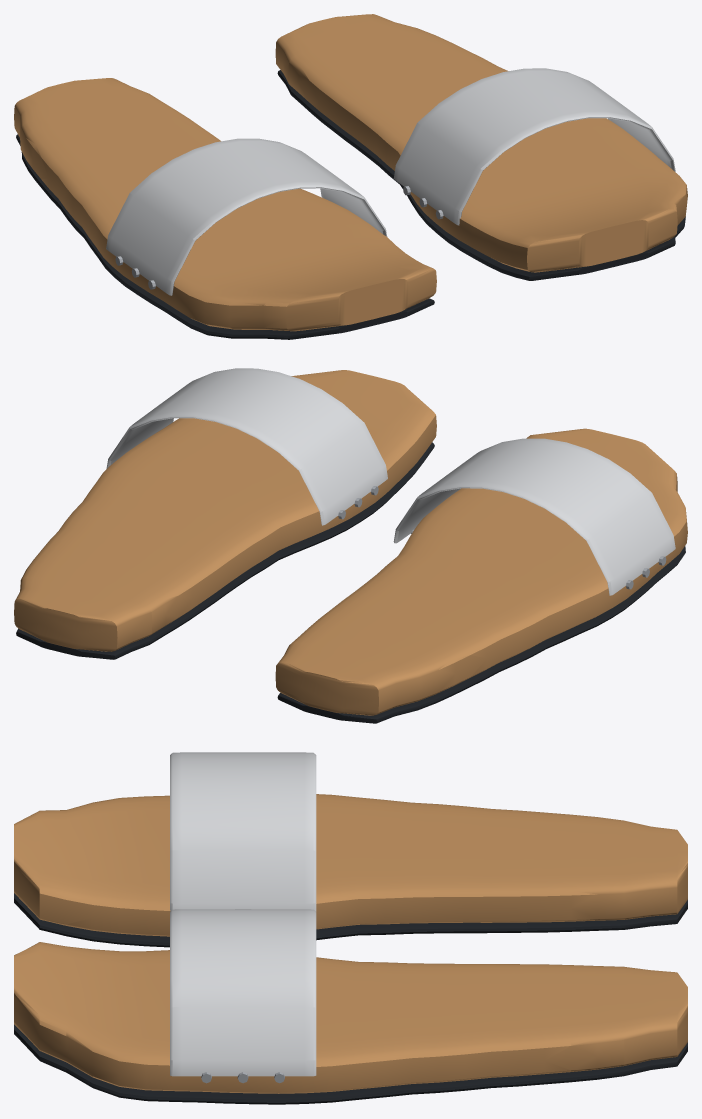
The model's file is guoc_moc_vn.glb.
3 views of the same model, one above another, from view 1: azimuth 30°, elevation 25°; view 2: azimuth 150°, elevation 25°; view 3: azimuth 270°, elevation 25° (orthographic). The views are drawn at different scales.
Visible parts, largest first — view 1: guoc_moc_vn; view 2: guoc_moc_vn; view 3: guoc_moc_vn.
Boxes of the visible parts, left/top/right/bottom form: guoc_moc_vn: left=14, top=14, right=687, bottom=339; guoc_moc_vn: left=14, top=368, right=687, bottom=723; guoc_moc_vn: left=14, top=752, right=687, bottom=1104.
Size of the model in its own units: 0.2494 by 0.0504 by 0.2537.
